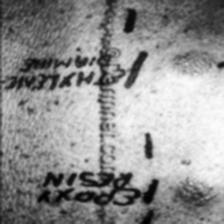Toxin: (170, 171, 218, 210), (174, 48, 224, 82)
